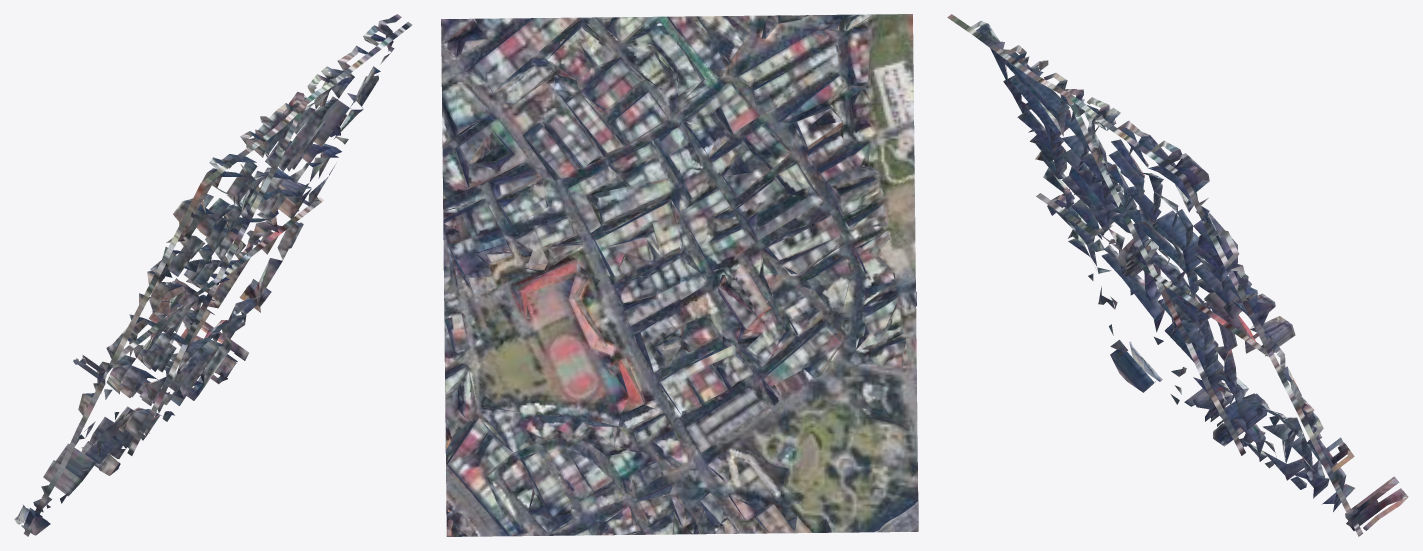
3 views of the same model, side by side, from view 1: azimuth 30°, elevation 25°; view 2: azimuth 150°, elevation 25°; view 3: azimuth 270°, elevation 25° (orthographic). The views are drawn at different scales.
Bounding box in the file's own units: 618 × 569 × 571.
1 material, 1 textured.
